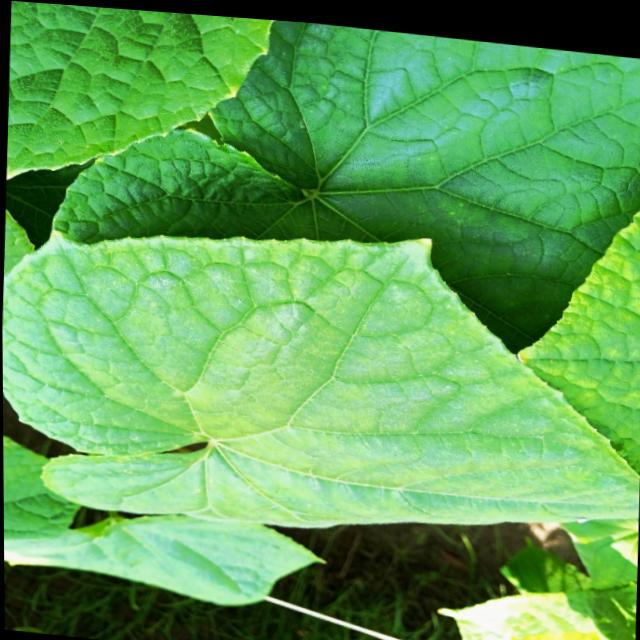Fresh-Leaf: (3, 227, 638, 528)
